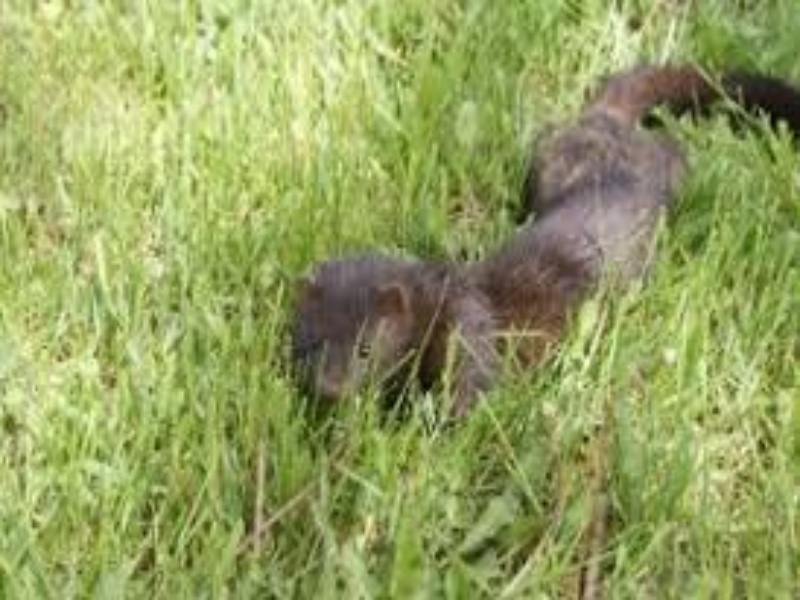minkish: (283, 59, 766, 427)
